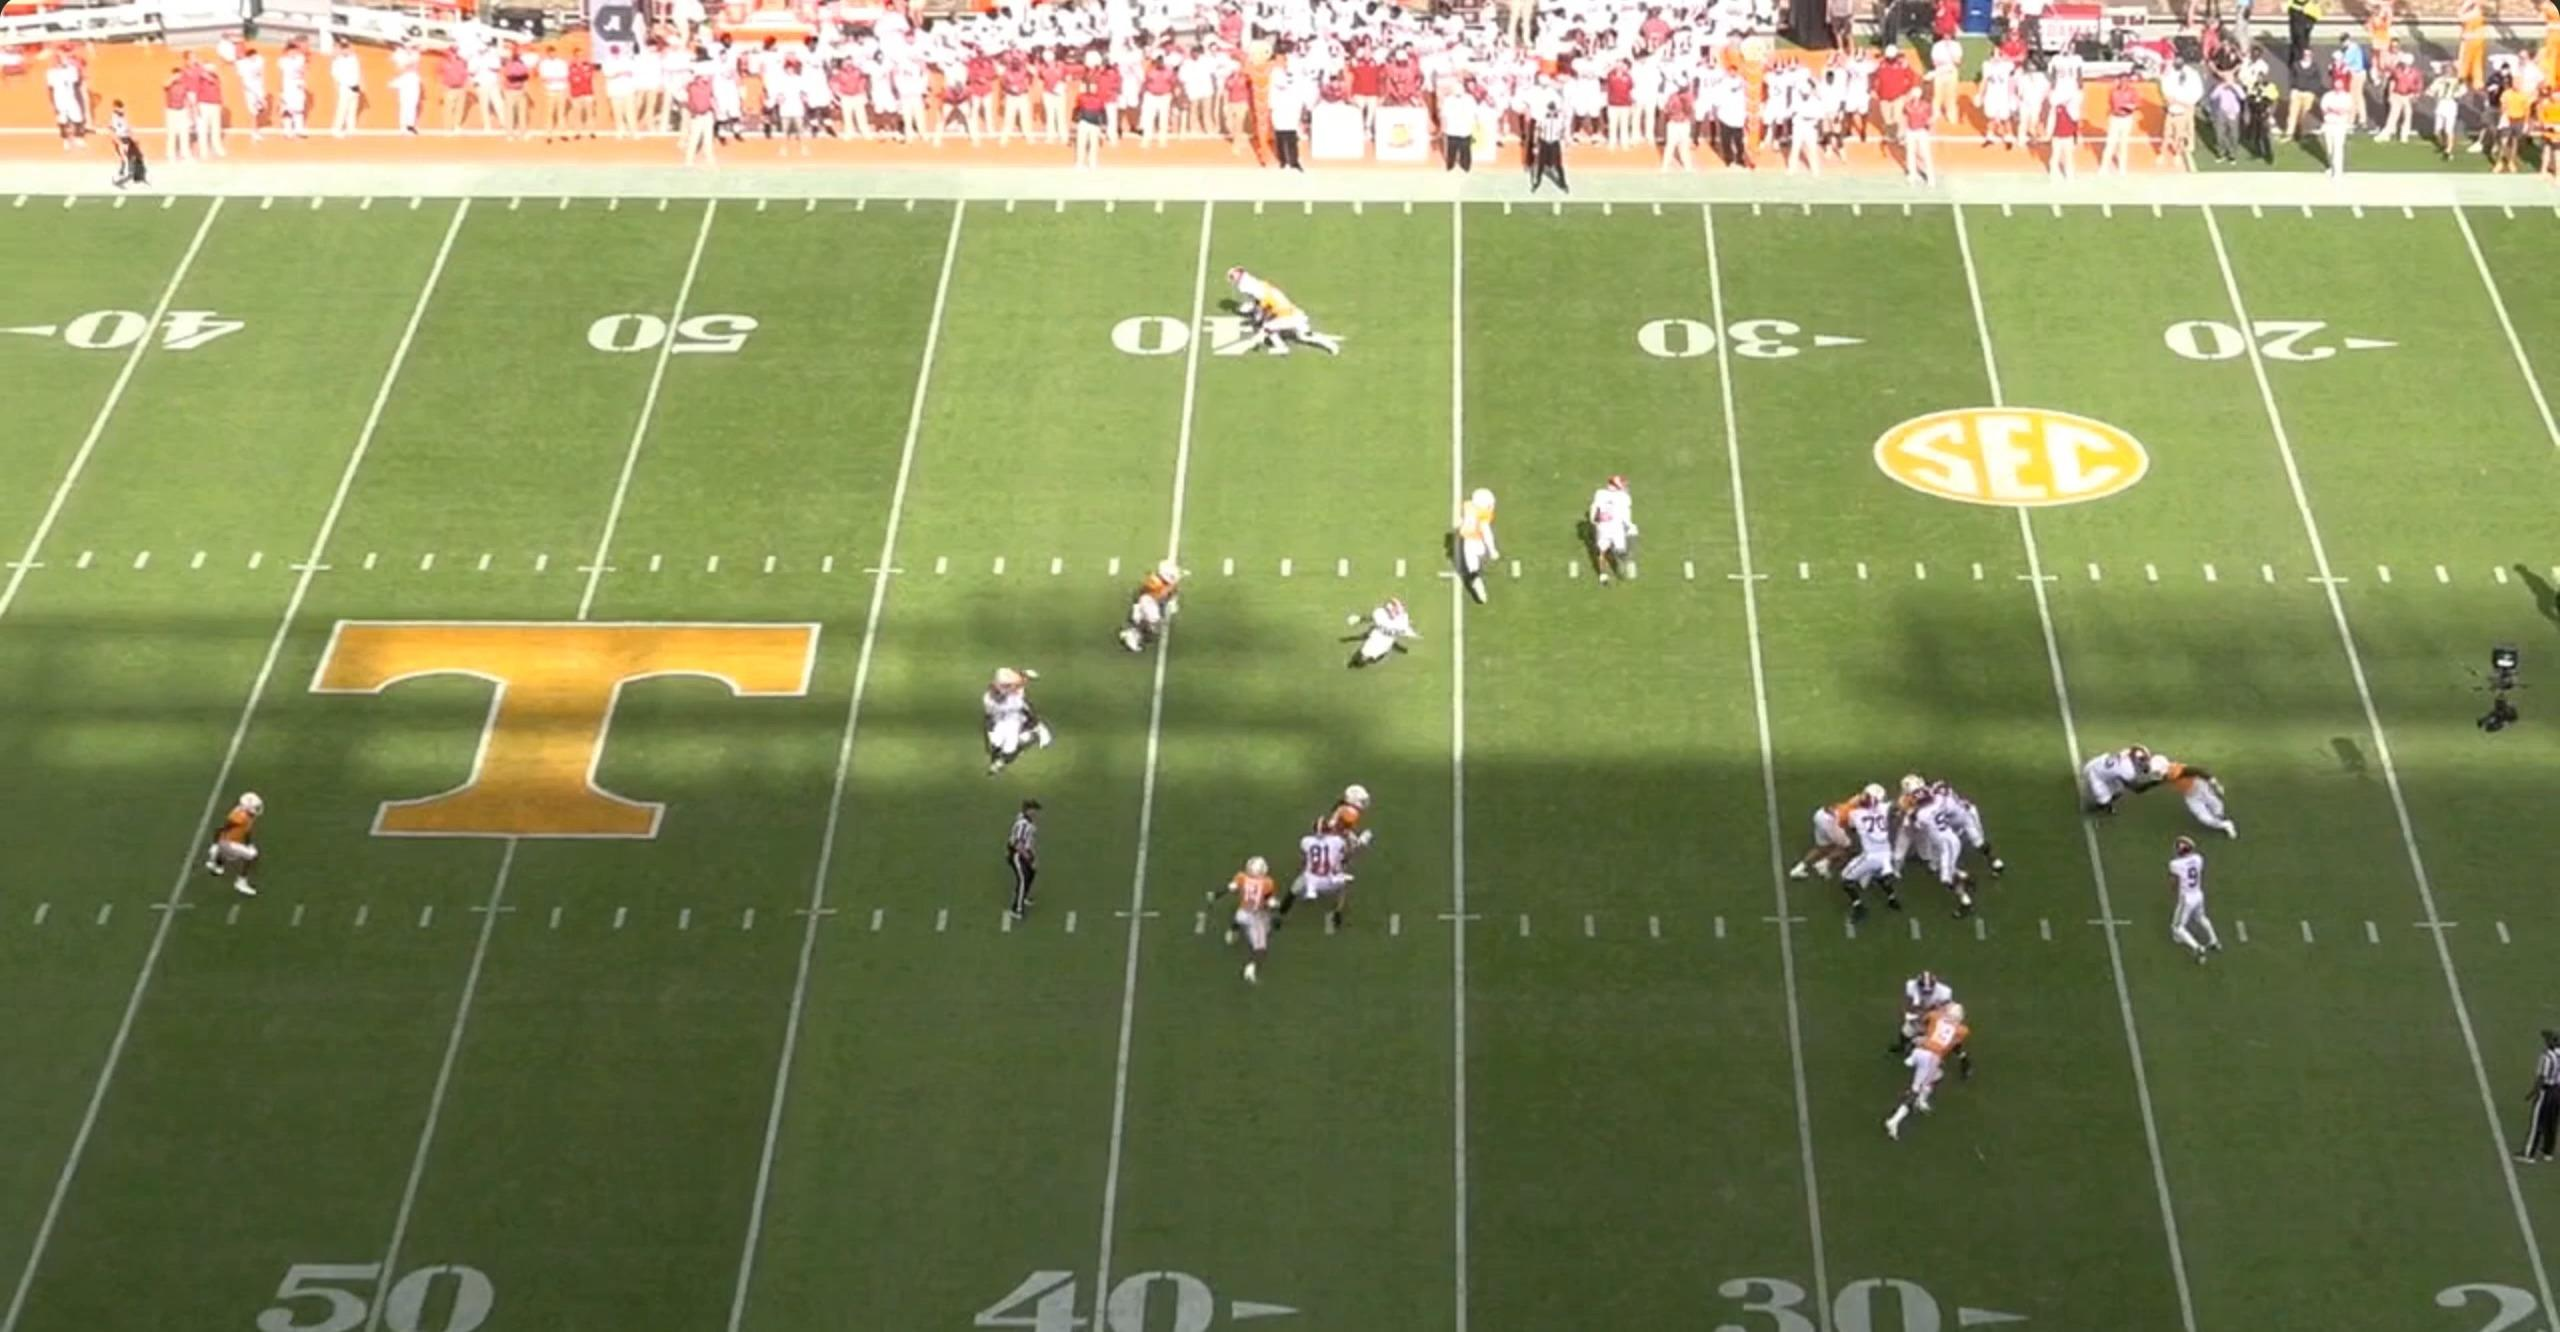defense: (1788, 779, 1898, 883), (1884, 1000, 1962, 1146), (2154, 757, 2252, 850), (1222, 851, 1287, 992), (198, 785, 271, 900), (1246, 278, 1346, 361), (1310, 779, 1382, 890), (1443, 489, 1503, 614), (1112, 562, 1182, 662), (979, 663, 1055, 753), (1890, 765, 1939, 899)
oline: (1890, 968, 1978, 1083), (1903, 789, 1972, 919), (1915, 779, 1996, 887), (1840, 794, 1905, 927), (2071, 745, 2154, 824)
qb: (2160, 838, 2220, 975)
ref: (996, 794, 1045, 929), (2523, 1019, 2560, 1166), (1520, 100, 1576, 195), (103, 98, 159, 190)
skill: (1272, 819, 1351, 934), (1575, 474, 1641, 592), (1224, 262, 1314, 330), (1344, 596, 1421, 672), (979, 682, 1036, 777)
